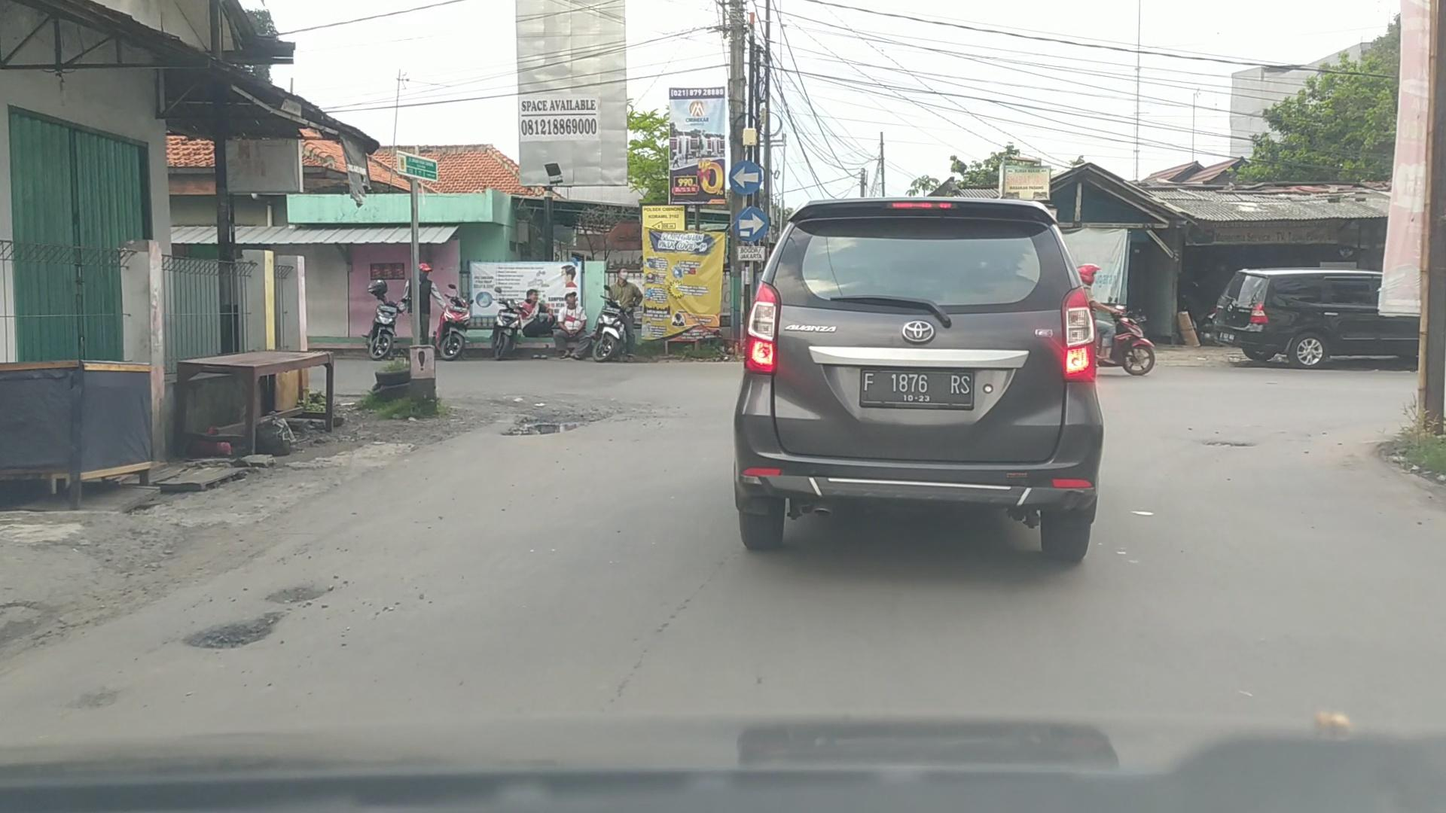pothole: (185, 608, 281, 651), (507, 413, 608, 436), (263, 586, 329, 603), (1208, 439, 1255, 449)
